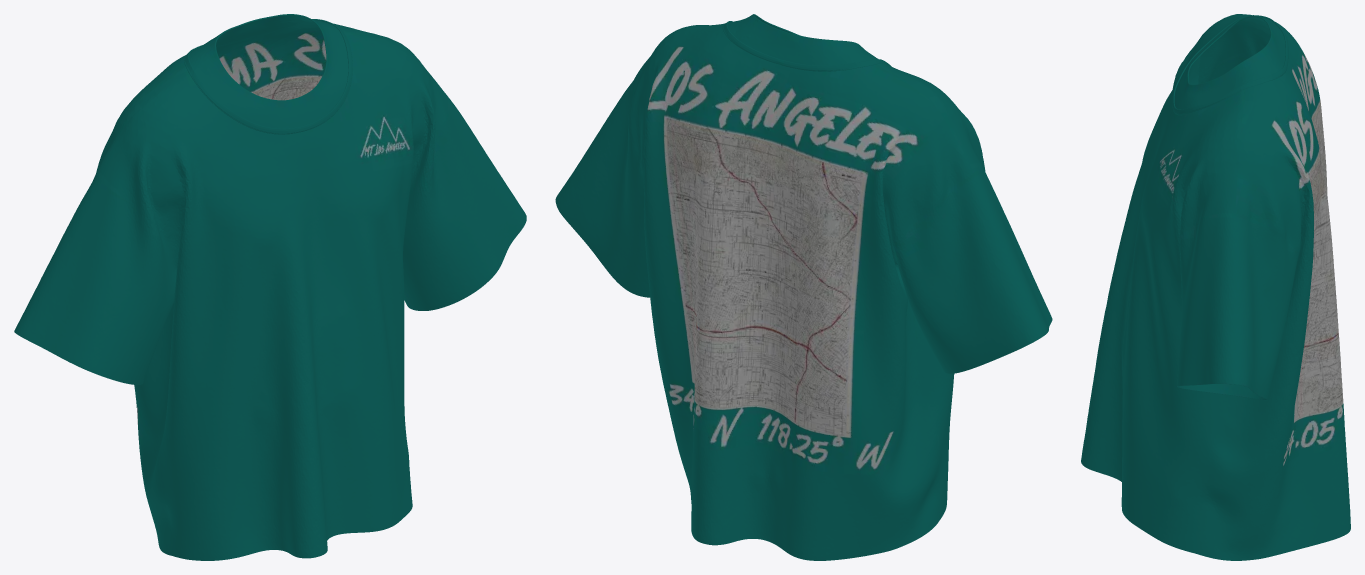
The model's file is baked_shirt_turquoise-transformed.glb.
3 views of the same model, side by side, from view 1: azimuth 30°, elevation 25°; view 2: azimuth 150°, elevation 25°; view 3: azimuth 270°, elevation 25° (orthographic). The views are drawn at different scales.
Visible parts, largest first — view 1: Tshirt_A-Pose; view 2: Tshirt_A-Pose; view 3: Tshirt_A-Pose.
Boxes of the visible parts, x1,y1,x2,y2 form: Tshirt_A-Pose: (14,14,526,560); Tshirt_A-Pose: (555,14,1052,560); Tshirt_A-Pose: (1081,14,1350,560).
Bounding box in the file's own units: 0.7686 × 0.7354 × 0.3732.
Materials: 1 (1 with a texture image).
